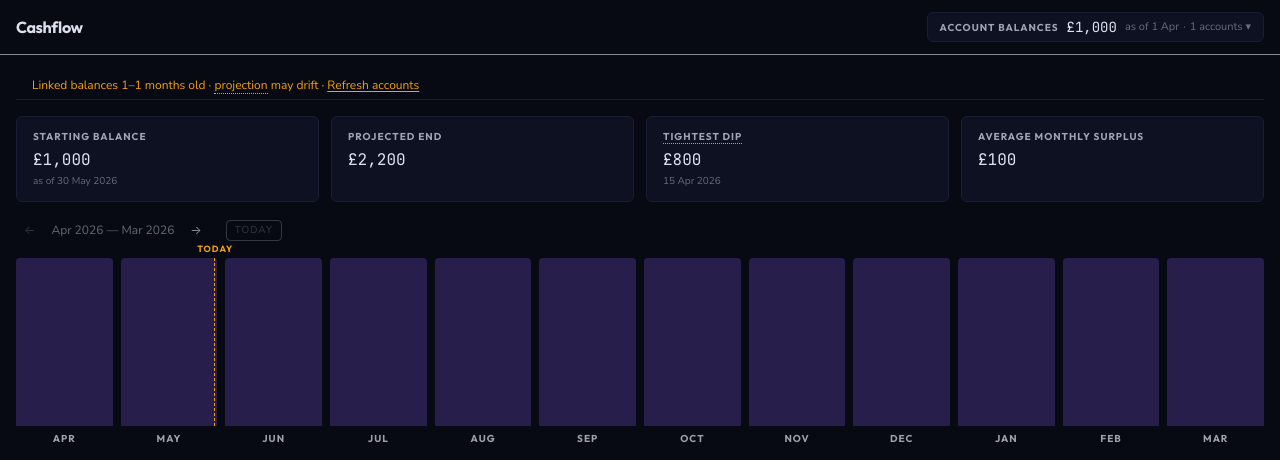
CashflowSectionPanel › transitions to month detail when a bar is clicked
The image size is (1280, 460).
Click the button "Apr".
click(64, 342)  # box [16,258,113,426]
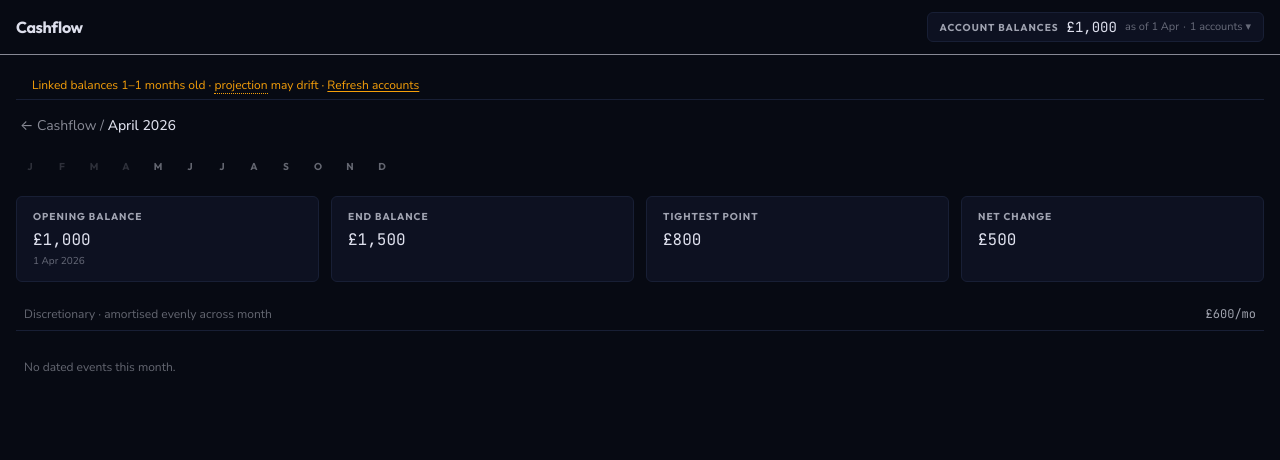
Check: the button "← Cashflow / April 2026" is shown, box [16,116,180,136]
